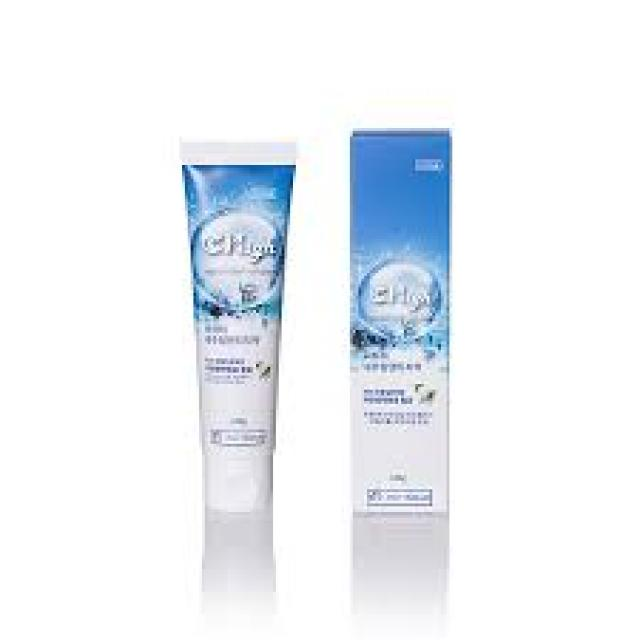toothpaste: (168, 135, 331, 526)
